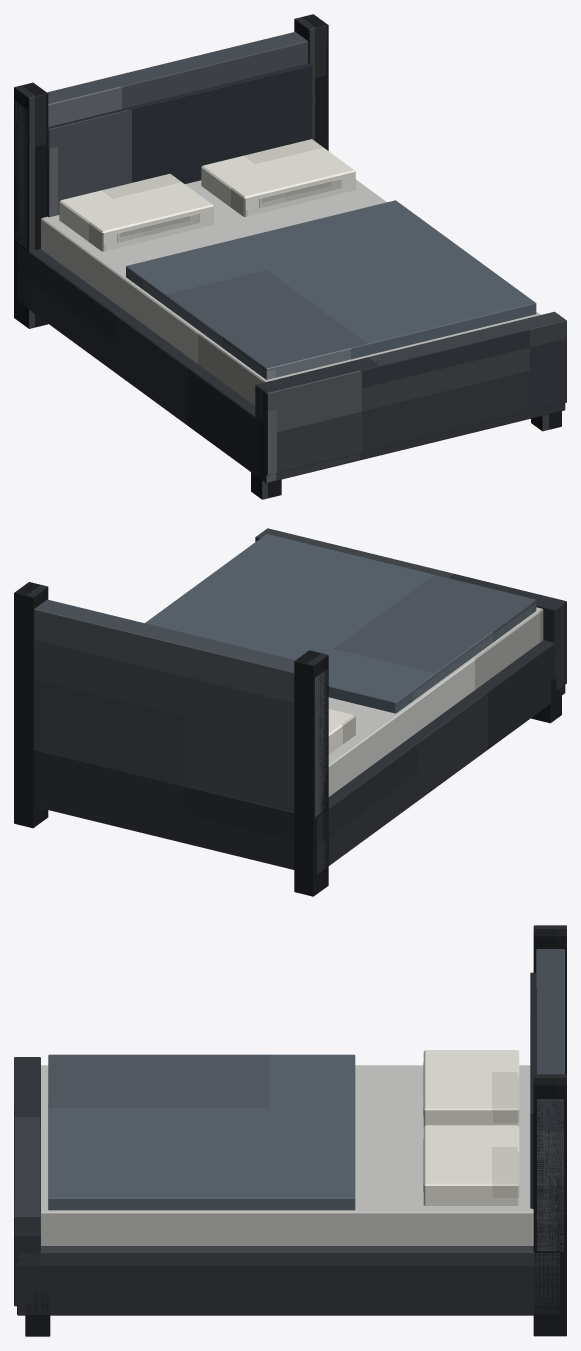
Rendered from double_bed_charcoal.glb.
3 renders of one model, top to bottom at view 1: azimuth 30°, elevation 25°; view 2: azimuth 150°, elevation 25°; view 3: azimuth 270°, elevation 25°, orthographic. The views are drawn at different scales.
Parts seen in each view (by area): view 1: Blanket, Footboard, HeadboardInset, BedFrame, Mattress, HeadboardPanel, Pillow_1, Pillow_2, HeadPostL, HeadPostR, PillowBand_1, PillowBand_2; view 2: HeadboardPanel, Blanket, BedFrame, Mattress, HeadPostL, HeadPostR, Footboard, Pillow_1, FootL; view 3: Blanket, BedFrame, Mattress, Pillow_2, HeadboardPanel, HeadPostR, Pillow_1, Footboard, HeadboardInset, HeadPostL, FootR.
Part boxes in pixels (bbox=[...]): Blanket: bbox=[126, 200, 536, 379]; Footboard: bbox=[255, 311, 566, 475]; HeadboardInset: bbox=[47, 63, 312, 217]; BedFrame: bbox=[17, 244, 565, 483]; Mattress: bbox=[41, 179, 540, 405]; HeadboardPanel: bbox=[15, 32, 308, 249]; Pillow_1: bbox=[59, 173, 213, 251]; Pillow_2: bbox=[201, 139, 355, 216]; HeadPostL: bbox=[14, 82, 48, 328]; HeadPostR: bbox=[294, 14, 328, 150]; PillowBand_1: bbox=[117, 213, 199, 242]; PillowBand_2: bbox=[259, 178, 341, 207]; HeadboardPanel: bbox=[34, 599, 327, 817]; Blanket: bbox=[145, 534, 536, 713]; BedFrame: bbox=[36, 640, 565, 874]; Mattress: bbox=[328, 607, 543, 796]; HeadPostL: bbox=[294, 650, 328, 896]; HeadPostR: bbox=[14, 582, 48, 828]; Footboard: bbox=[255, 528, 566, 690]; Pillow_1: bbox=[328, 709, 355, 754]; FootL: bbox=[531, 678, 561, 723]; Blanket: bbox=[48, 1054, 355, 1210]; BedFrame: bbox=[17, 1245, 559, 1315]; Mattress: bbox=[41, 1065, 533, 1245]; Pillow_2: bbox=[423, 1125, 519, 1205]; HeadboardPanel: bbox=[536, 949, 564, 1251]; HeadPostR: bbox=[533, 1074, 566, 1336]; Pillow_1: bbox=[423, 1050, 519, 1126]; Footboard: bbox=[14, 1057, 40, 1306]; HeadboardInset: bbox=[530, 972, 535, 1209]; HeadPostL: bbox=[533, 925, 566, 1074]; FootR: bbox=[25, 1292, 50, 1336].
Bounding box in the file's own units: 1.82 × 1.34 × 2.66.
Materials: 1 (1 with a texture image).
